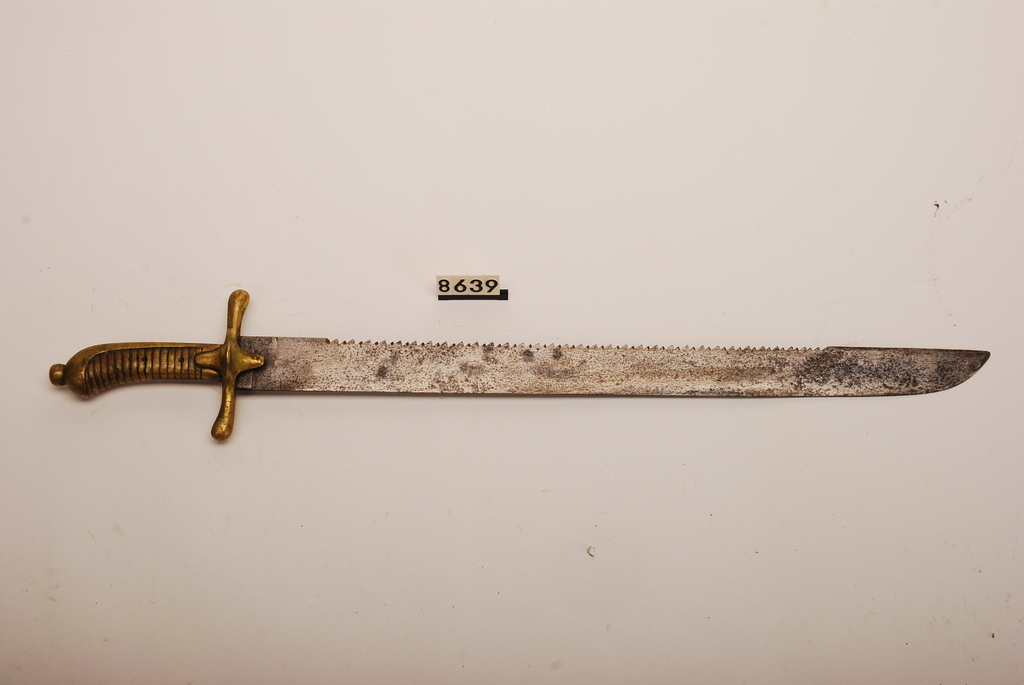knife: (48, 289, 991, 440)
